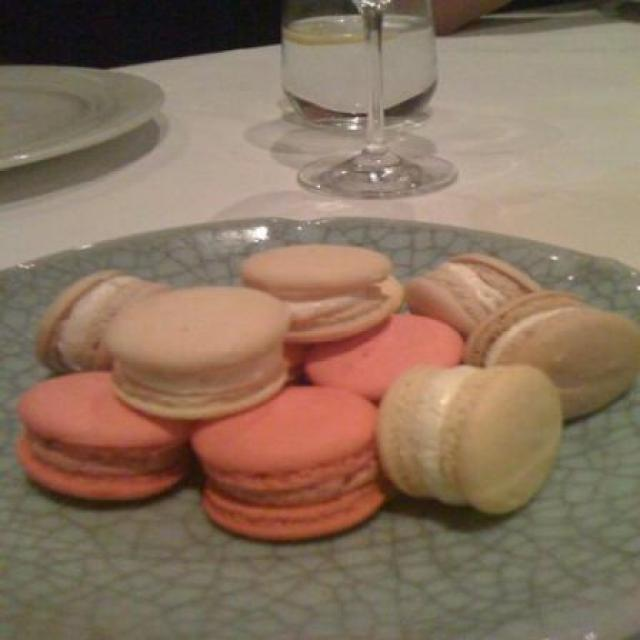Macaron: (17, 233, 632, 552)
